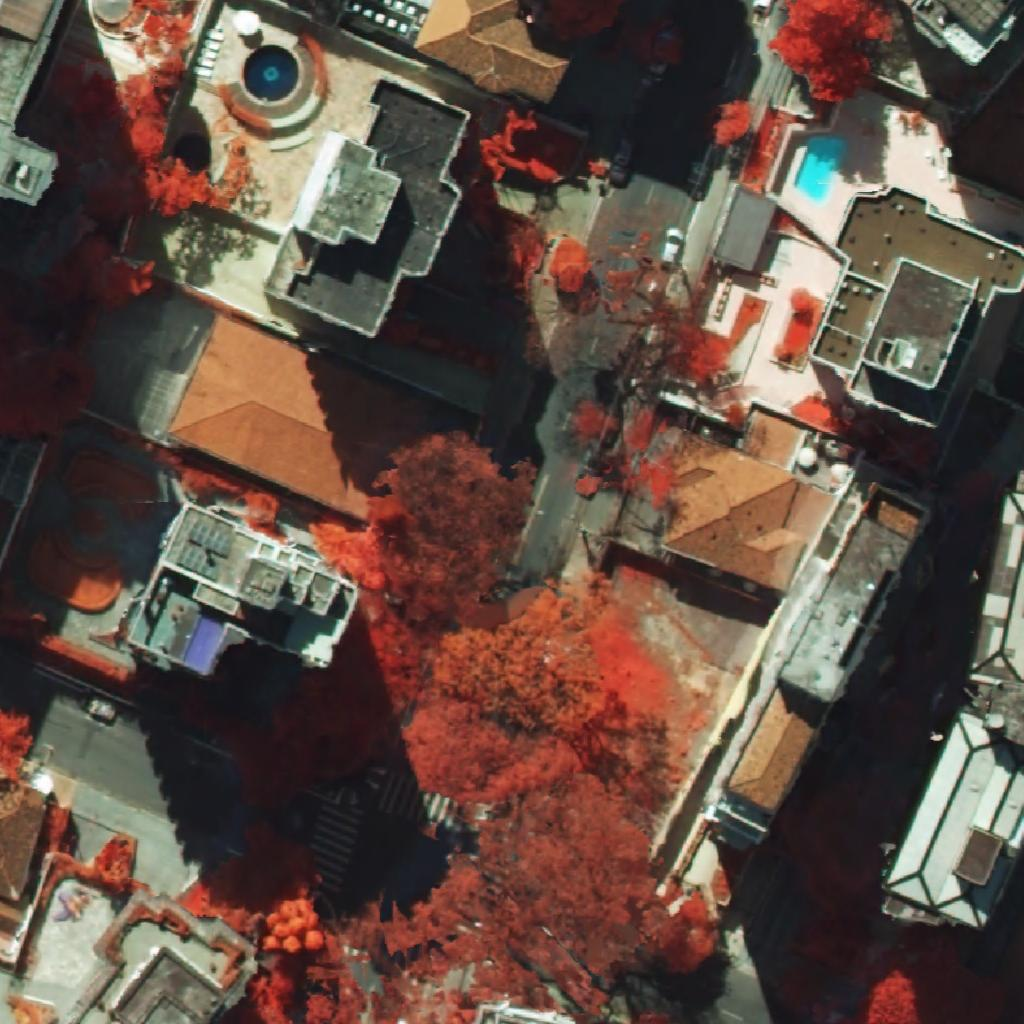pool: (794, 138, 845, 204), (244, 44, 299, 101), (183, 615, 225, 672)
